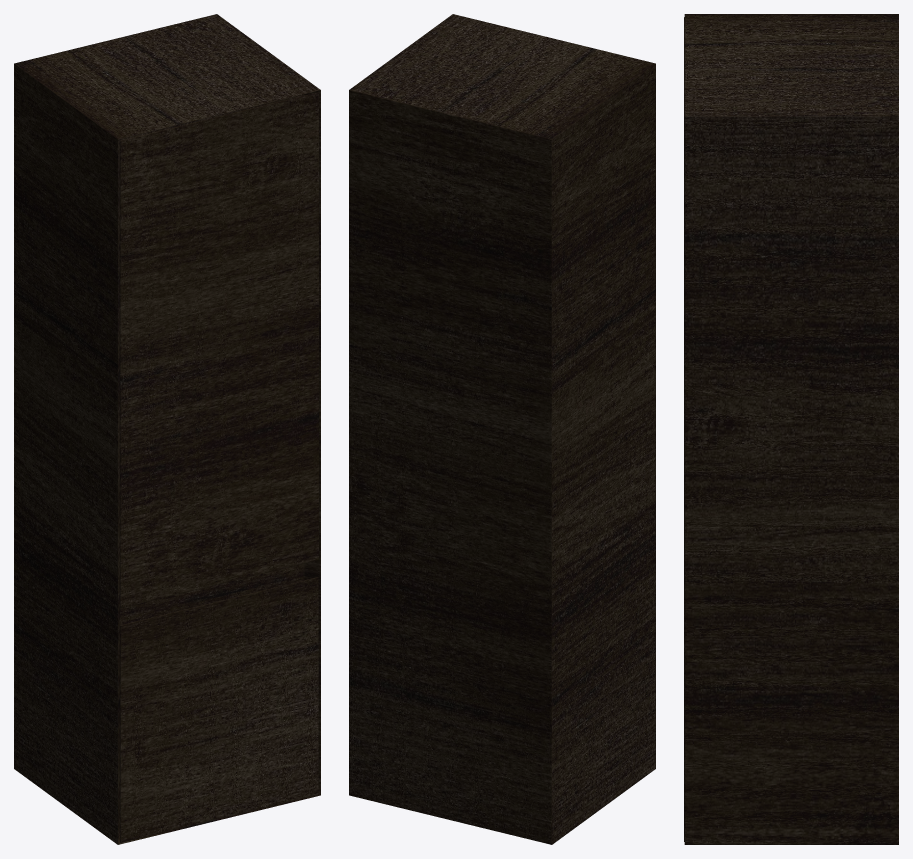
File: A23DMOD_FBX.fbx
3 renders of one model, left to right at view 1: azimuth 30°, elevation 25°; view 2: azimuth 150°, elevation 25°; view 3: azimuth 270°, elevation 25°, orthographic. The views are drawn at different scales.
Visible parts, largest first — view 1: A23DOBJ_001; view 2: A23DOBJ_001; view 3: A23DOBJ_001.
Boxes of the visible parts, x1,y1,x2,y2 form: A23DOBJ_001: (14,14,320,844); A23DOBJ_001: (349,14,655,844); A23DOBJ_001: (684,14,898,844).
Bounding box in the file's own units: 45.16 × 150 × 40.08.
Materials: 1 (1 with a texture image).
